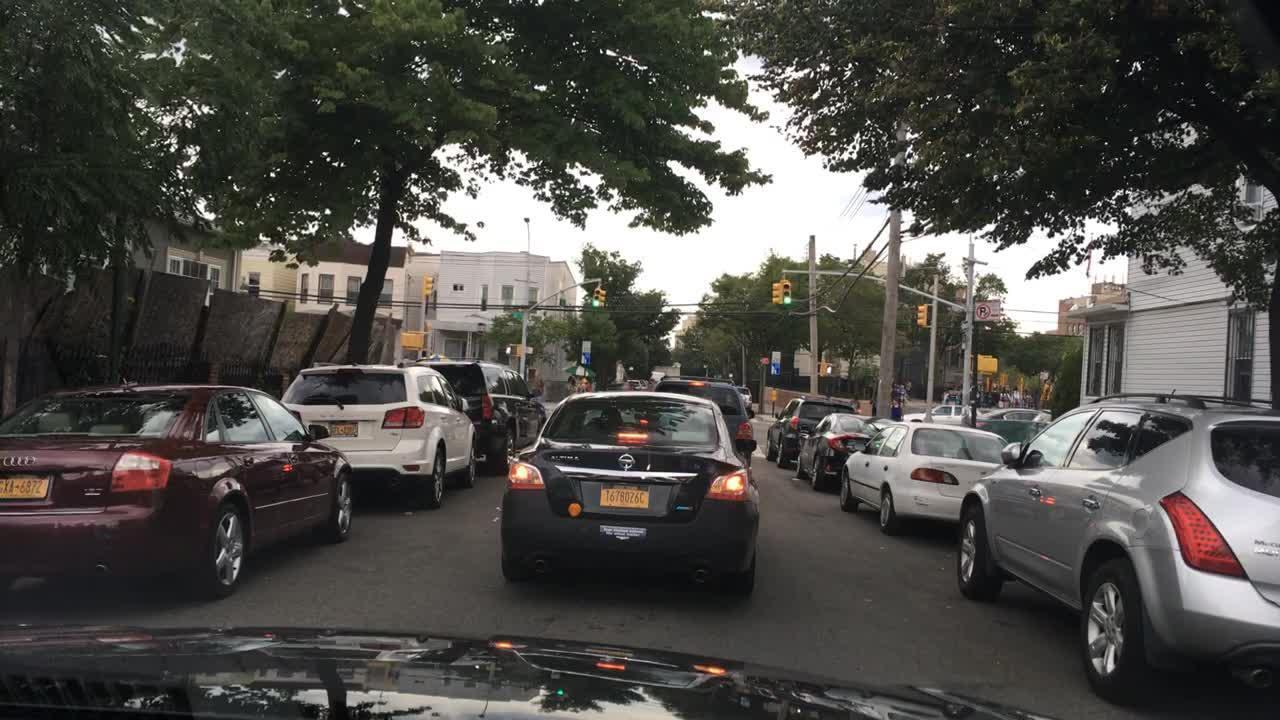Audi: (0, 450, 39, 476)
Nissan: (618, 454, 637, 473)
